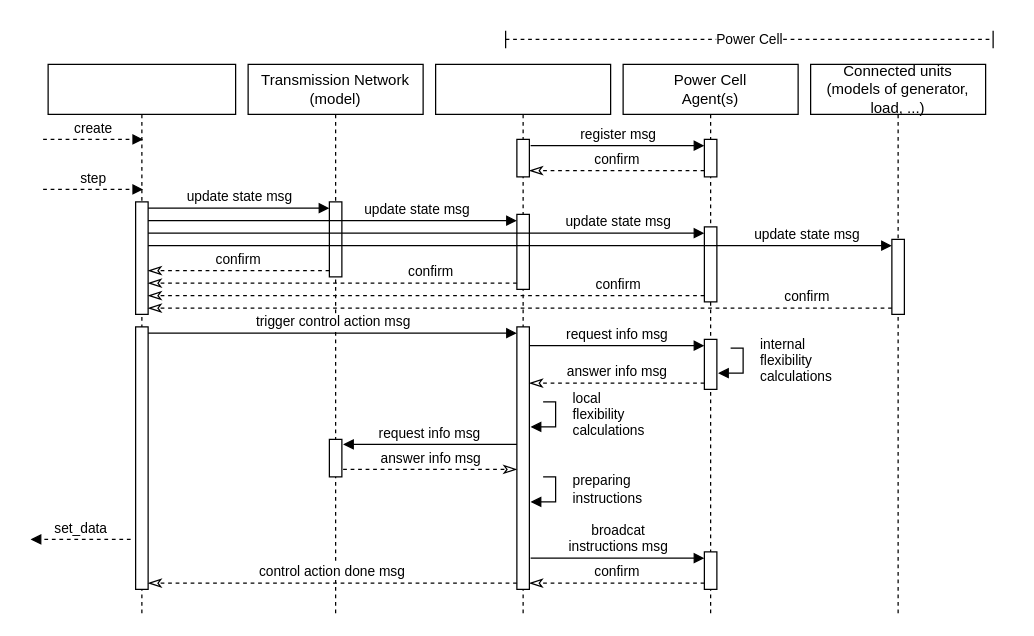
Some shapes in this 1034 by 636 pixel diagram are drawn without their labels. The box of each missing label's shape, as (x1, y1, x2, y2) in pixels:
Controller Agent(s): (434, 63, 611, 614)
Mosaik Agent (co-simulation interface): (47, 63, 236, 614)
